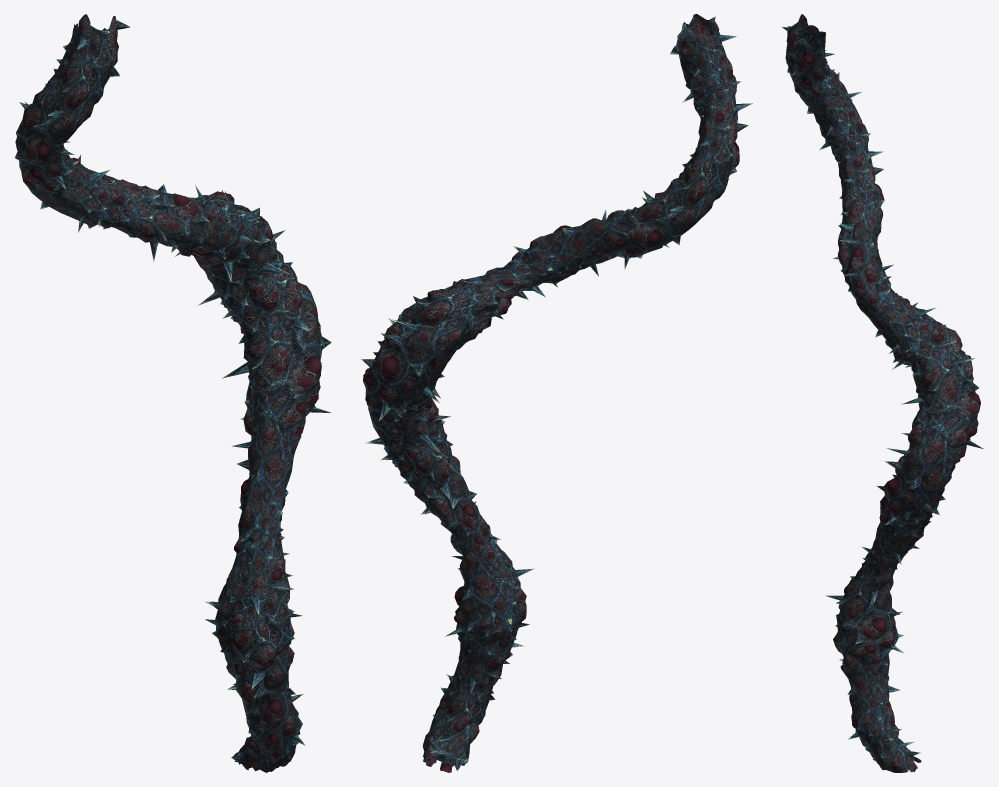
Rendered from L03_Heltree23.fbx.
3 renders of one model, left to right at view 1: azimuth 30°, elevation 25°; view 2: azimuth 150°, elevation 25°; view 3: azimuth 270°, elevation 25°, orthographic. The views are drawn at different scales.
Parts seen in each view (by area): view 1: LODGroup_1_MainMesh_1_SubMesh_1, LODGroup_1_MainMesh_1_SubMesh_2; view 2: LODGroup_1_MainMesh_1_SubMesh_1, LODGroup_1_MainMesh_1_SubMesh_2; view 3: LODGroup_1_MainMesh_1_SubMesh_1, LODGroup_1_MainMesh_1_SubMesh_2.
Boxes of the visible parts, x1,y1,x2,y2 form: LODGroup_1_MainMesh_1_SubMesh_1: (14, 16, 331, 772); LODGroup_1_MainMesh_1_SubMesh_2: (28, 14, 331, 766); LODGroup_1_MainMesh_1_SubMesh_1: (361, 14, 752, 772); LODGroup_1_MainMesh_1_SubMesh_2: (373, 18, 741, 770); LODGroup_1_MainMesh_1_SubMesh_1: (782, 22, 983, 772); LODGroup_1_MainMesh_1_SubMesh_2: (796, 14, 978, 772).
Bounding box in the file's own units: 1113 × 2498 × 694.
